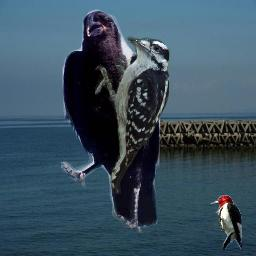Crow: (61, 9, 163, 233)
Woodpecker: (95, 35, 179, 194), (210, 195, 243, 250)
